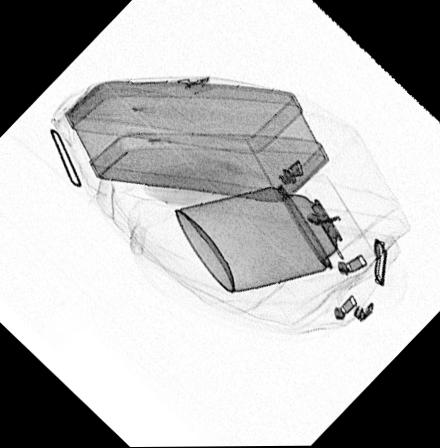Sprayer: (172, 175, 374, 292)
